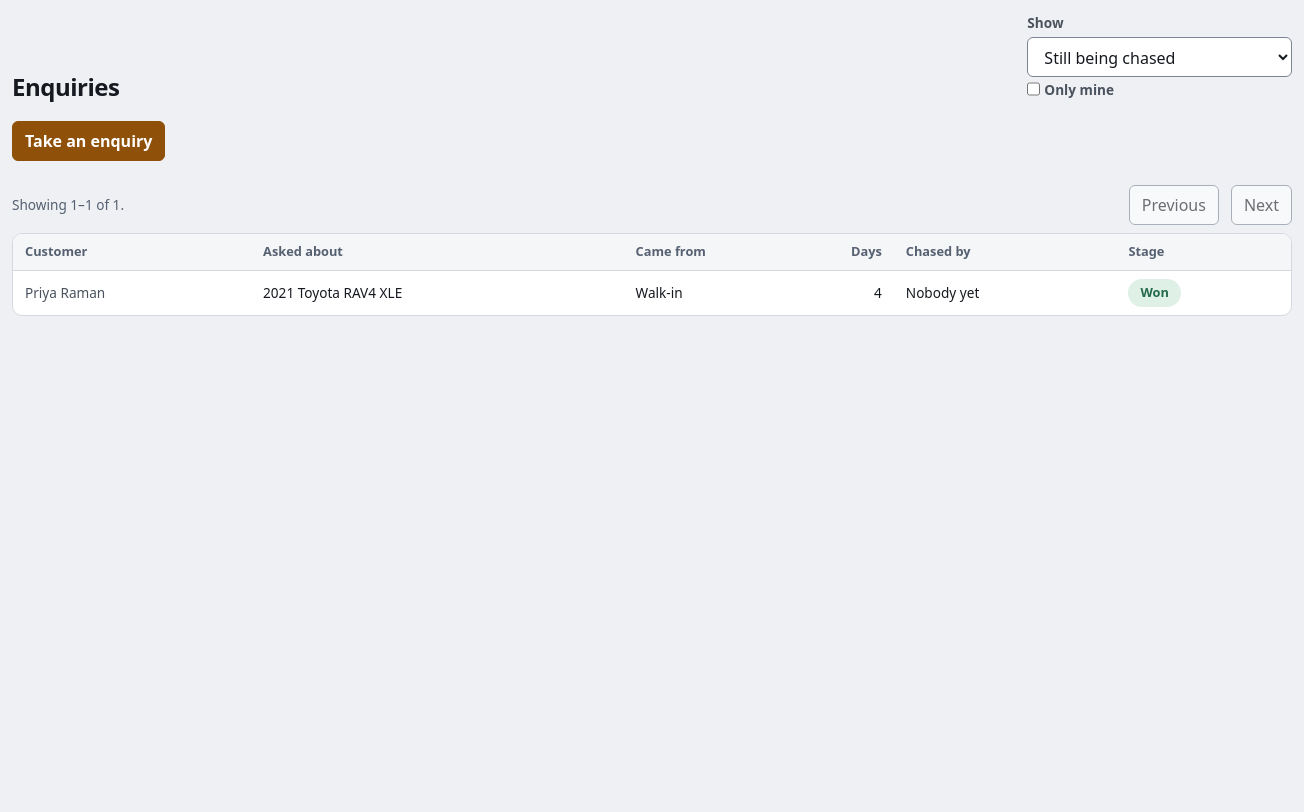
Test case: one enquiry › offers nothing on a finished enquiry
Expected: the table is shown, [13, 234, 1291, 315]
Click the button "Priya Raman".
click(132, 293)  # box [25, 281, 239, 305]
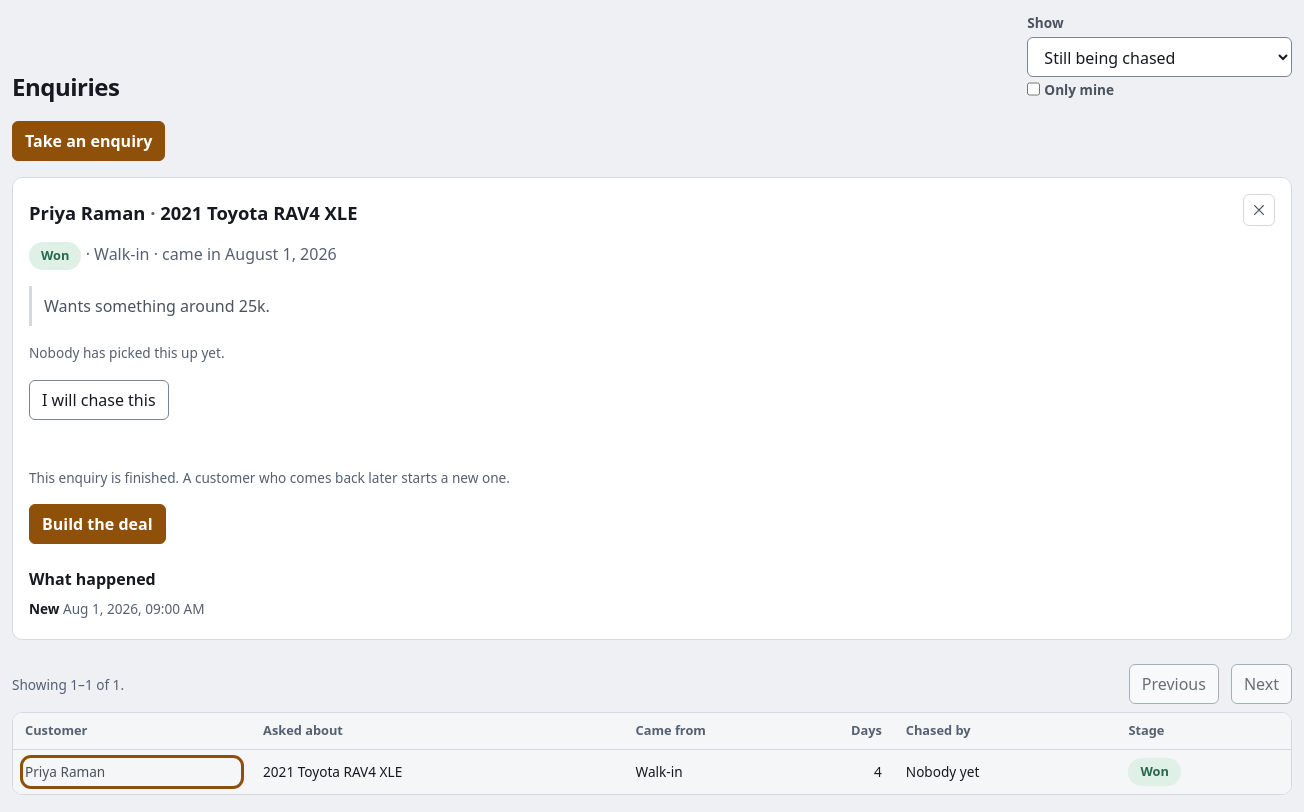
Expected: the text "This enquiry is finished" is shown, [29, 468, 510, 487]
